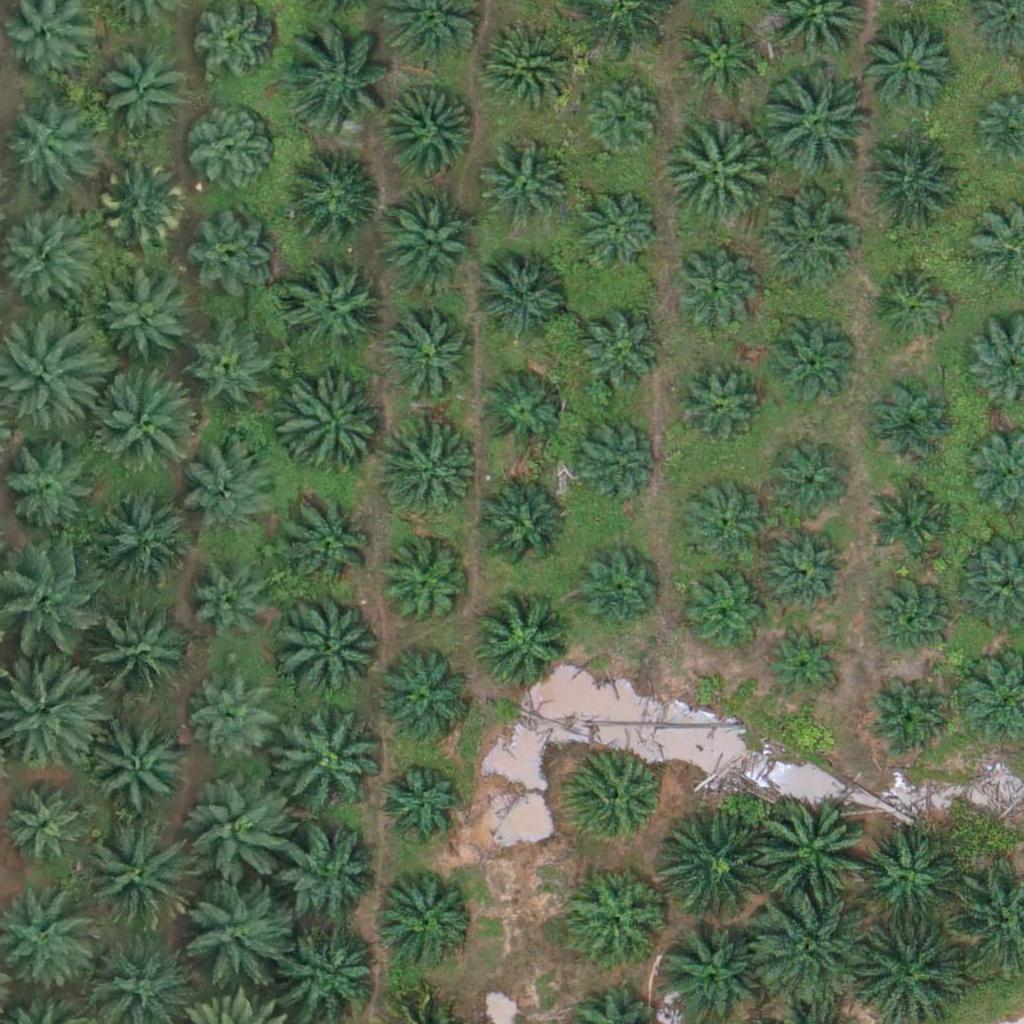Kelapa_Sawit: (177, 872, 290, 986), (78, 601, 191, 715), (79, 820, 192, 933), (850, 135, 963, 248), (759, 72, 872, 185), (656, 814, 769, 927), (285, 28, 398, 141), (271, 703, 384, 816), (184, 778, 297, 891), (277, 588, 389, 702), (757, 893, 869, 1006), (659, 116, 771, 229), (756, 797, 868, 910), (91, 370, 203, 483), (377, 865, 477, 966), (859, 22, 959, 123), (756, 189, 856, 290), (856, 824, 956, 925), (473, 18, 573, 119), (475, 247, 575, 348), (471, 479, 571, 580), (472, 595, 572, 696), (381, 423, 481, 524), (285, 151, 385, 252), (281, 263, 381, 364), (281, 379, 381, 480), (90, 717, 190, 818), (96, 268, 196, 369), (568, 866, 668, 966), (279, 831, 379, 931), (566, 751, 666, 851), (380, 85, 480, 185), (381, 190, 481, 290), (374, 651, 474, 751), (283, 495, 383, 595), (184, 439, 284, 539), (91, 495, 191, 595), (581, 75, 669, 163), (570, 182, 658, 270), (574, 310, 662, 398), (567, 412, 655, 500), (669, 360, 757, 448), (767, 315, 855, 403), (866, 678, 954, 766), (868, 261, 956, 349), (483, 143, 571, 231), (383, 545, 471, 633), (375, 758, 463, 846), (1, 105, 89, 193), (2, 783, 90, 871), (675, 18, 763, 106), (574, 547, 661, 635), (684, 564, 771, 652), (680, 479, 767, 567), (671, 243, 758, 331), (765, 440, 852, 528), (766, 524, 853, 612), (864, 568, 951, 656), (872, 471, 959, 559), (864, 374, 951, 462), (479, 365, 566, 453), (388, 309, 475, 397), (191, 3, 278, 91), (188, 112, 275, 200), (191, 211, 278, 299), (188, 328, 275, 416), (188, 572, 275, 660), (193, 677, 280, 765), (98, 164, 185, 252), (97, 49, 184, 137), (767, 621, 842, 697)
